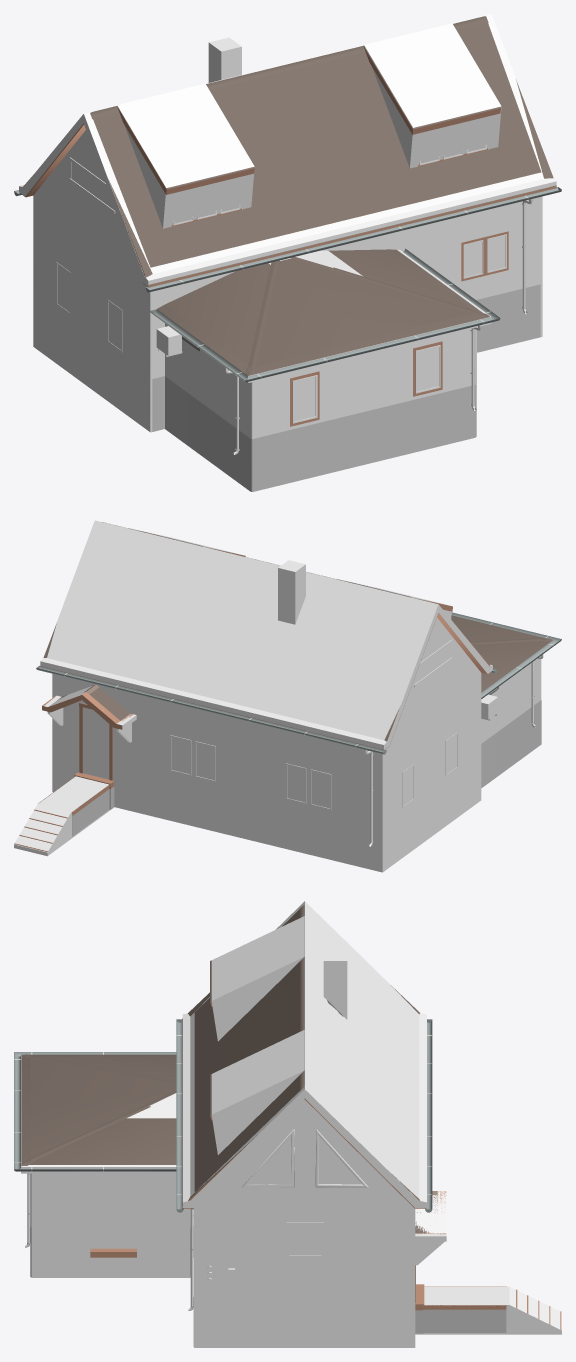
File: eca_bld_fv_house_g.DAE
3 views of the same model, one above another, from view 1: azimuth 30°, elevation 25°; view 2: azimuth 150°, elevation 25°; view 3: azimuth 270°, elevation 25° (orthographic). The views are drawn at different scales.
Visible parts, largest first — view 1: eca_bld_fv_house_g250, Colmesh-1, eca_bld_fv_house_g120; view 2: Colmesh-1, eca_bld_fv_house_g250, eca_bld_fv_house_g50; view 3: Colmesh-1, eca_bld_fv_house_g250, eca_bld_fv_house_g50.
Part boxes in pixels (box(x1,y1,x2,y2)): eca_bld_fv_house_g250: box(14, 16, 561, 491); Colmesh-1: box(19, 14, 556, 436); eca_bld_fv_house_g120: box(290, 231, 508, 426); Colmesh-1: box(14, 520, 492, 872); eca_bld_fv_house_g250: box(14, 522, 561, 851); eca_bld_fv_house_g50: box(39, 707, 112, 834); Colmesh-1: box(21, 901, 561, 1347); eca_bld_fv_house_g250: box(14, 905, 561, 1346); eca_bld_fv_house_g50: box(415, 1271, 506, 1332).
Size of the model in its own units: 12.22 by 14.9 by 8.45.
